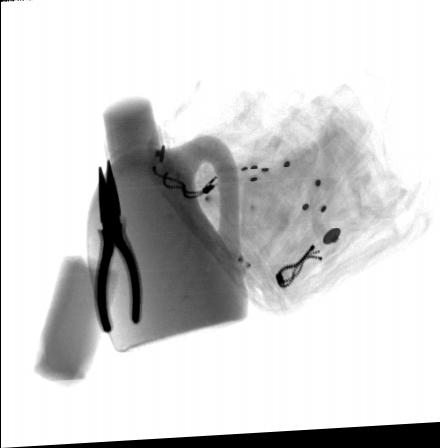Pliers: (91, 157, 143, 335)
